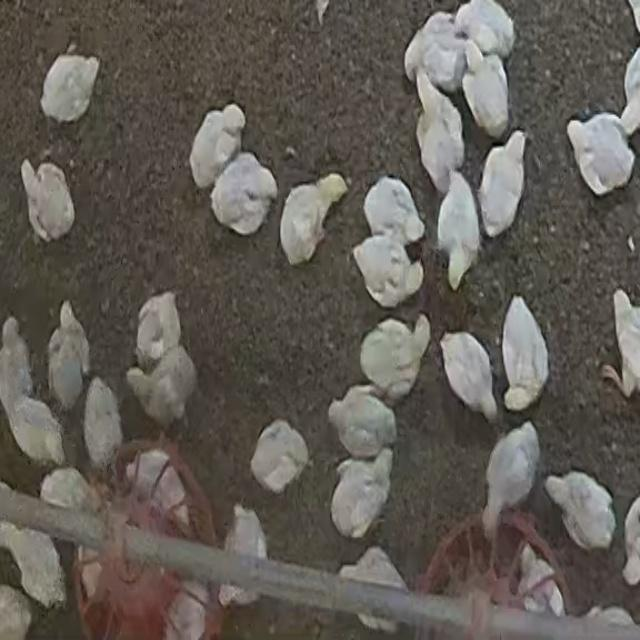chicken: (482, 422, 540, 540), (337, 544, 411, 635), (359, 315, 431, 404), (1, 513, 66, 611), (278, 174, 347, 264), (414, 72, 464, 194), (500, 292, 555, 402), (328, 448, 393, 539), (4, 383, 70, 472), (438, 330, 500, 424), (545, 469, 616, 551), (128, 345, 196, 428), (568, 111, 635, 195), (210, 153, 278, 235), (404, 12, 470, 96), (478, 129, 528, 239), (220, 504, 270, 612), (352, 233, 422, 308), (38, 46, 105, 124), (436, 170, 480, 288), (326, 389, 410, 450), (189, 103, 244, 190), (47, 302, 90, 412), (248, 418, 308, 496), (20, 159, 74, 243), (362, 173, 423, 246), (462, 46, 510, 138), (134, 290, 184, 372), (512, 539, 563, 618), (82, 377, 124, 471), (453, 0, 515, 60), (0, 319, 34, 403)
